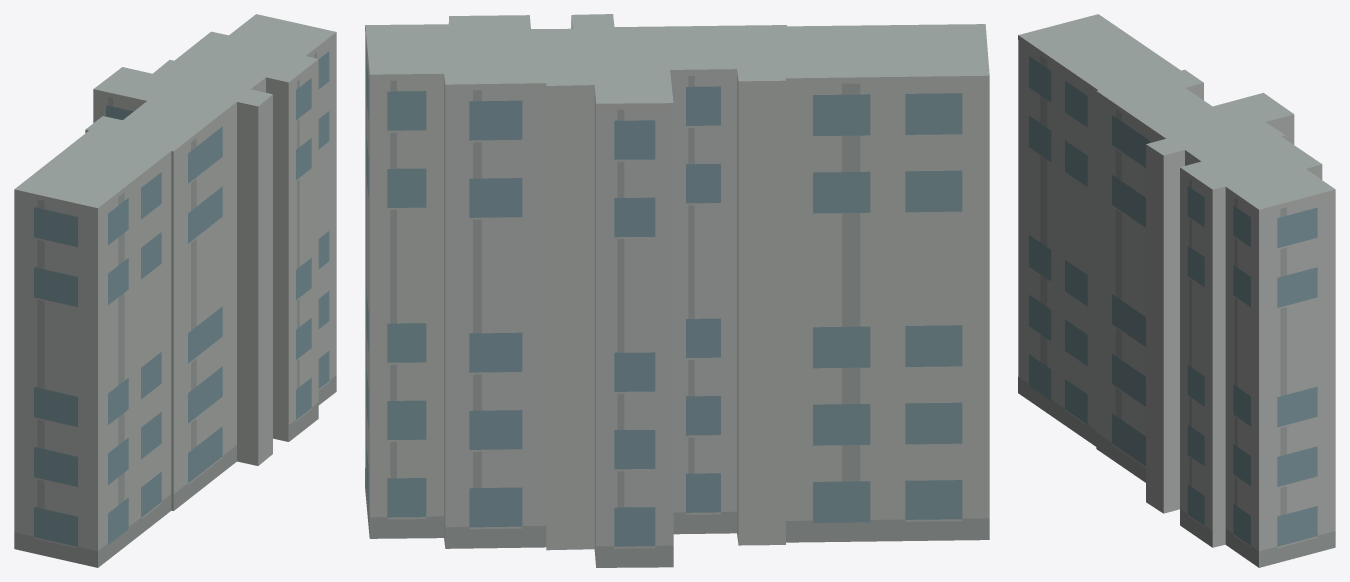
File: survey-upis-32934538.glb
3 renders of one model, left to right at view 1: azimuth 30°, elevation 25°; view 2: azimuth 150°, elevation 25°; view 3: azimuth 270°, elevation 25°, orthographic. The views are drawn at different scales.
Parts seen in each view (by area): view 1: survey-upis-32934538.tmp; view 2: survey-upis-32934538.tmp; view 3: survey-upis-32934538.tmp.
Part boxes in pixels (box(x1,y1,x2,y2)): survey-upis-32934538.tmp: box(14, 14, 336, 567); survey-upis-32934538.tmp: box(365, 14, 989, 567); survey-upis-32934538.tmp: box(1018, 14, 1335, 567).
Bounding box in the file's own units: 21.47 × 18.3 × 14.72.
